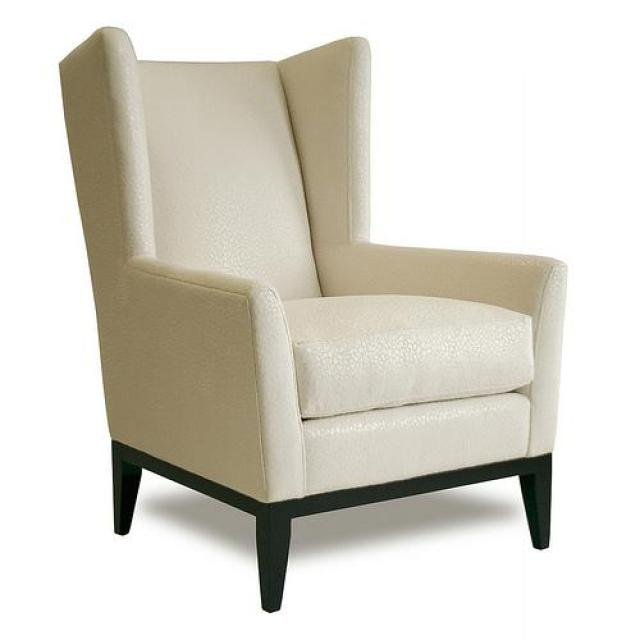chair: (56, 23, 570, 610)
